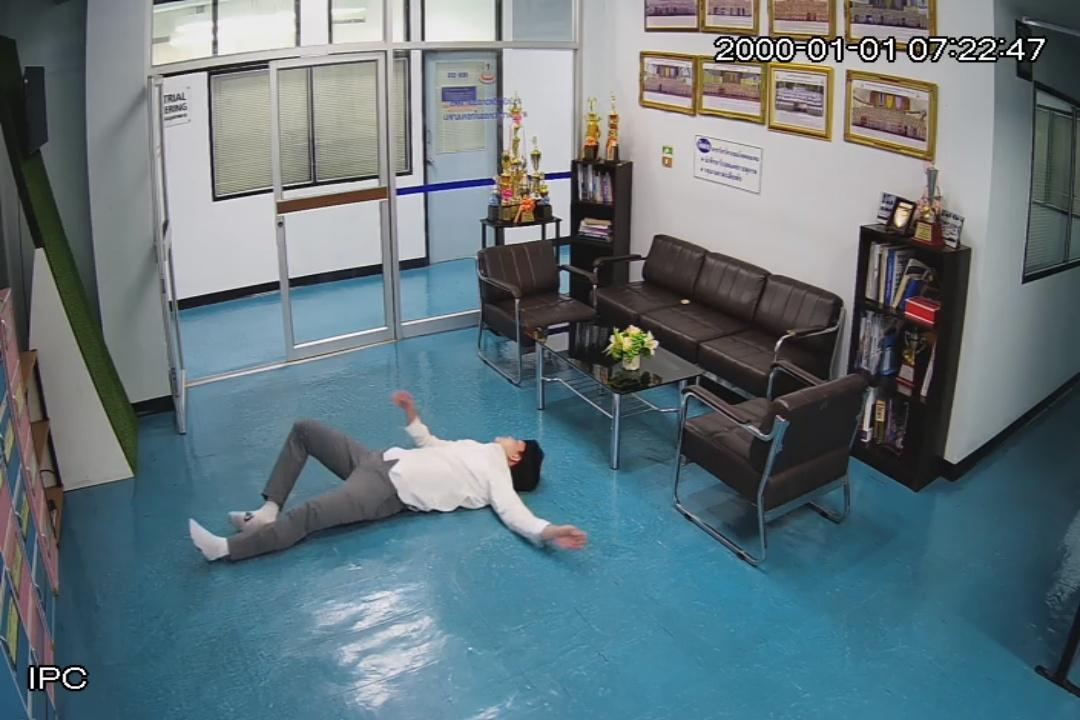fall: (186, 390, 592, 572)
